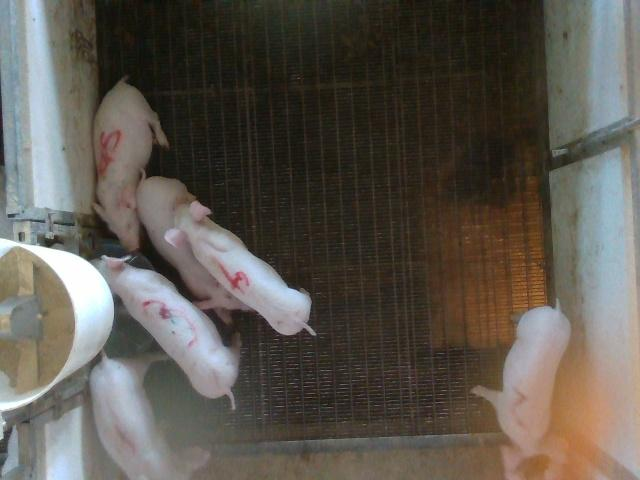pig-1: (90, 358, 176, 479)
pig-2: (472, 304, 570, 478)
pig-3: (95, 256, 239, 406)
pig-4: (166, 201, 315, 335)
pig-5: (94, 78, 169, 252)
